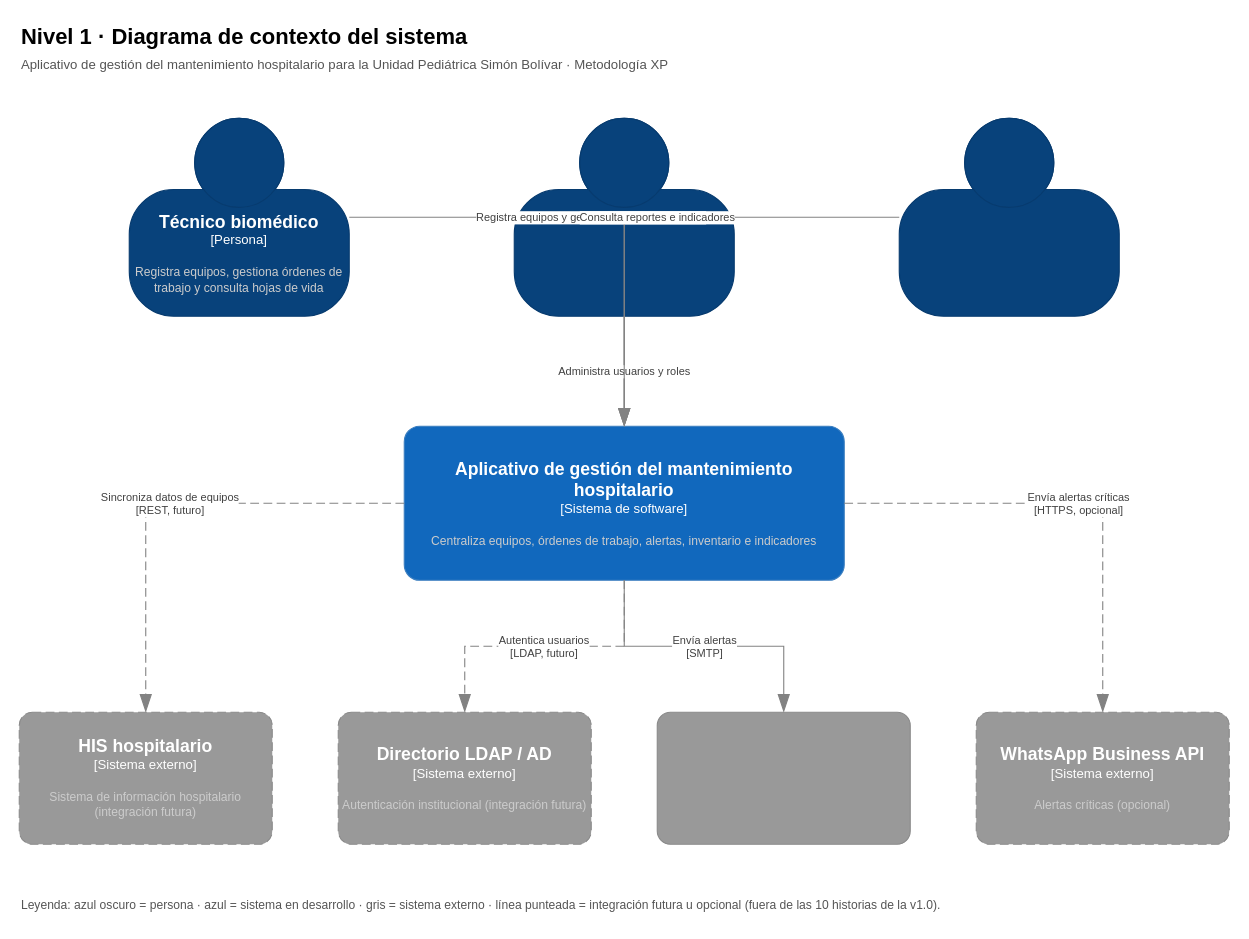
This 1249x939 diagram has some shape labels left out. Each missing label, with the centre of its shape:
"Administrador TIC [Persona] Gestiona usuarios y roles de acceso" goes at point 623,216.
"Gerencia [Persona] Consulta indicadores y reportes de gestión" goes at point 1008,216.
"Servicio de correo SMTP [Sistema externo] Envía las notificaciones de alerta" goes at point 783,777.
